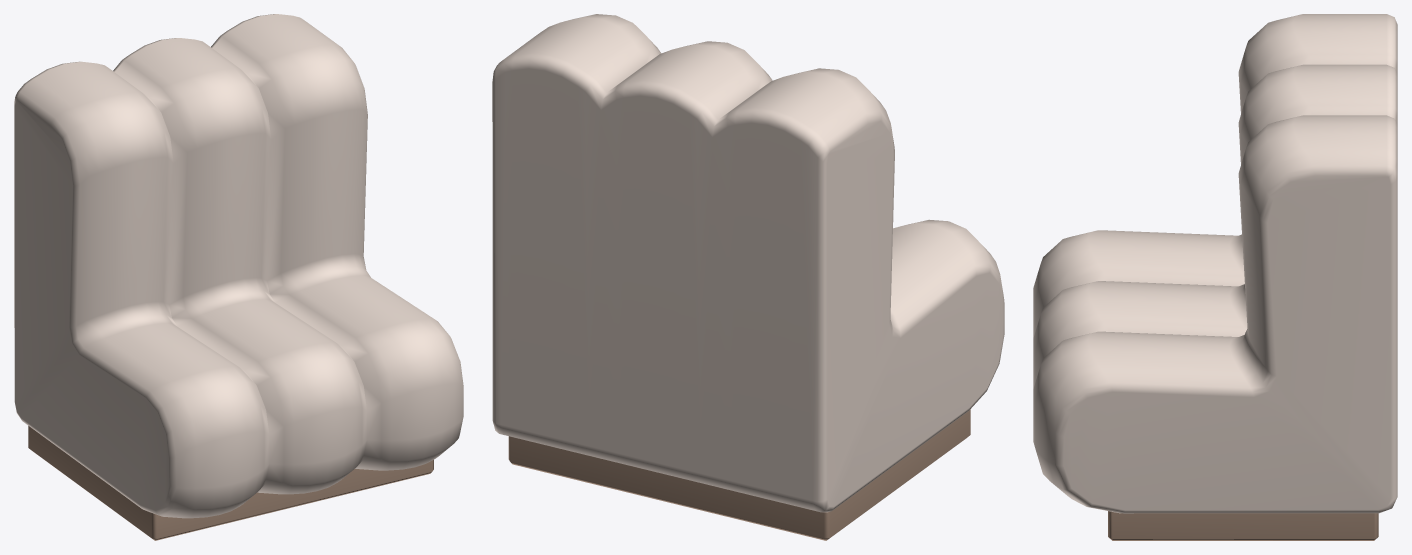
Rendered from Sofa_white.glb.
The picture shows the model from 3 angles, left to right: view 1: azimuth 30°, elevation 25°; view 2: azimuth 150°, elevation 25°; view 3: azimuth 270°, elevation 25°; orthographic projection. The views are drawn at different scales.
Parts seen in each view (by area): view 1: Armchair_4; view 2: Armchair_4; view 3: Armchair_4.
Boxes of the visible parts, x1,y1,x2,y2 form: Armchair_4: [14, 14, 463, 540]; Armchair_4: [492, 14, 1004, 540]; Armchair_4: [1033, 14, 1397, 540].
Bounding box in the file's own units: 1.2 × 1.45 × 1.21.
1 material, 1 textured.
